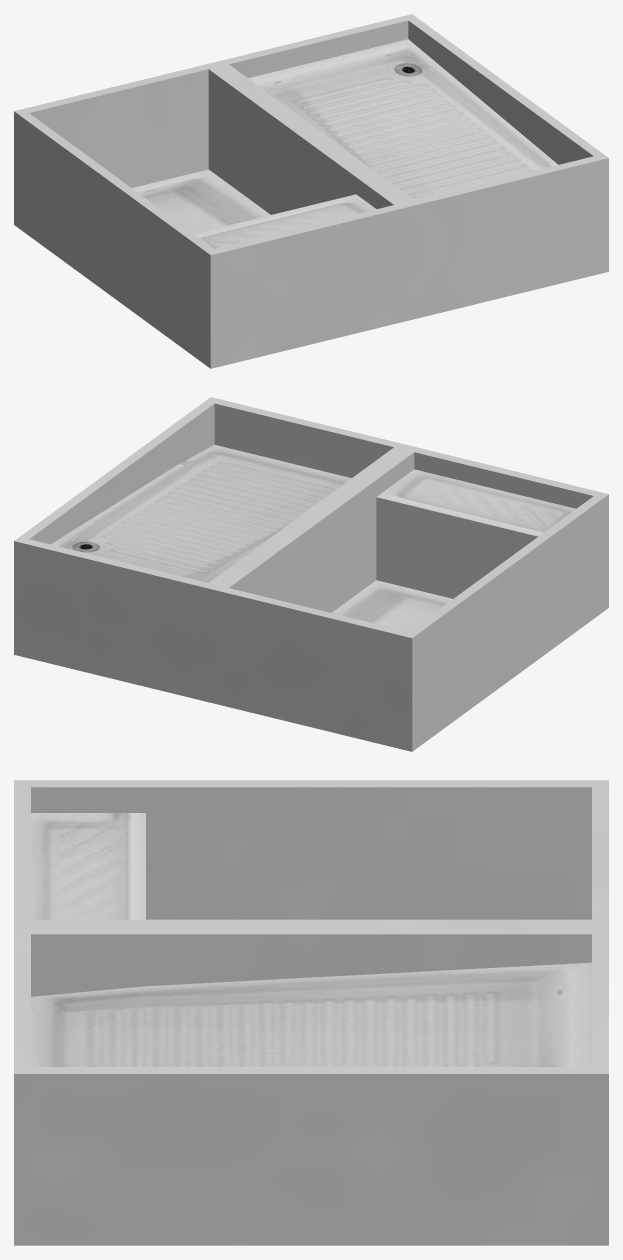
The model's file is MSH_Lavadero.FBX.
3 renders of one model, top to bottom at view 1: azimuth 30°, elevation 25°; view 2: azimuth 150°, elevation 25°; view 3: azimuth 270°, elevation 25°, orthographic. The views are drawn at different scales.
Parts seen in each view (by area): view 1: MSH_Lavadero; view 2: MSH_Lavadero; view 3: MSH_Lavadero.
Part boxes in pixels (x1,y1,x2,y2): MSH_Lavadero: (14, 14, 608, 368); MSH_Lavadero: (14, 397, 608, 751); MSH_Lavadero: (14, 780, 608, 1245).
Bounding box in the file's own units: 73.13 × 19.95 × 62.61.
Materials: 1 (1 with a texture image).
